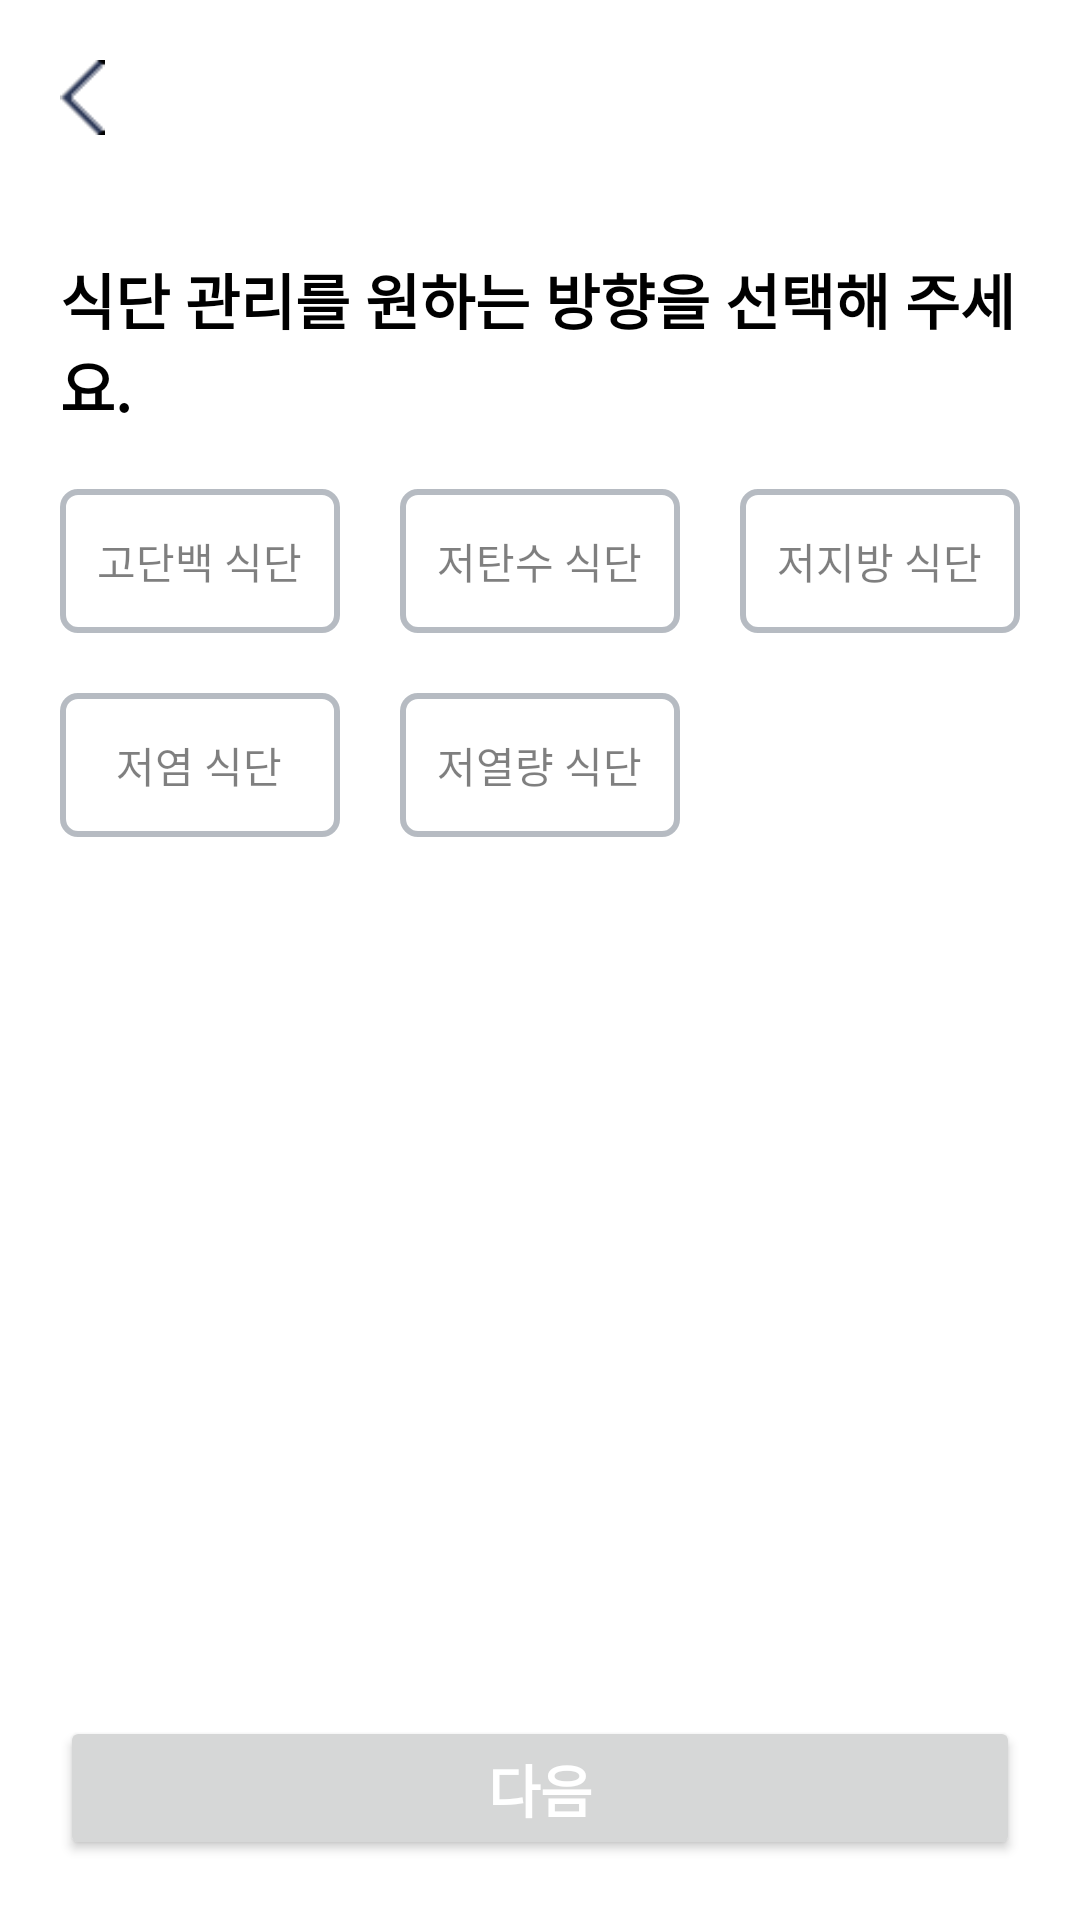

Screen size 1080*1920. Icon name, then its box in pixels as (x1, y1, x2, y2):
backarrow: (60, 60, 105, 135)
